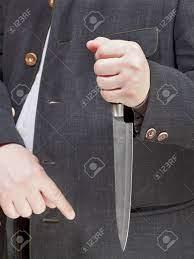Knife: (0, 0, 194, 259), (88, 36, 151, 112), (111, 106, 134, 251)
